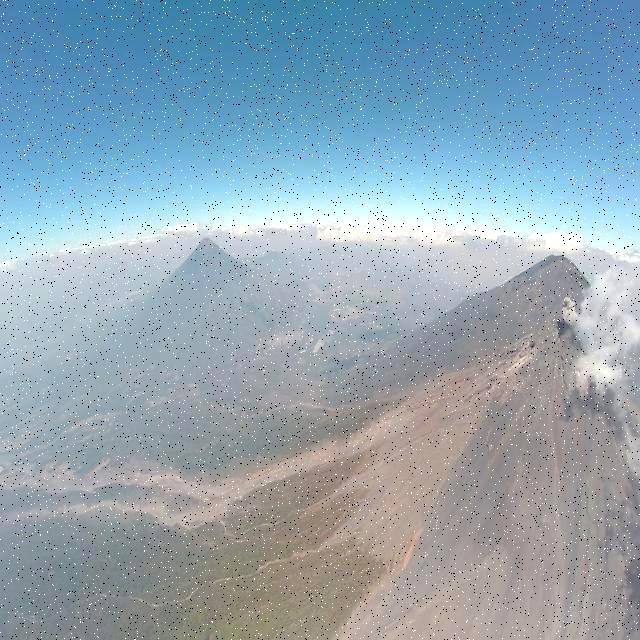Plume: (562, 296, 578, 324)
Summit: (518, 318, 586, 370)
